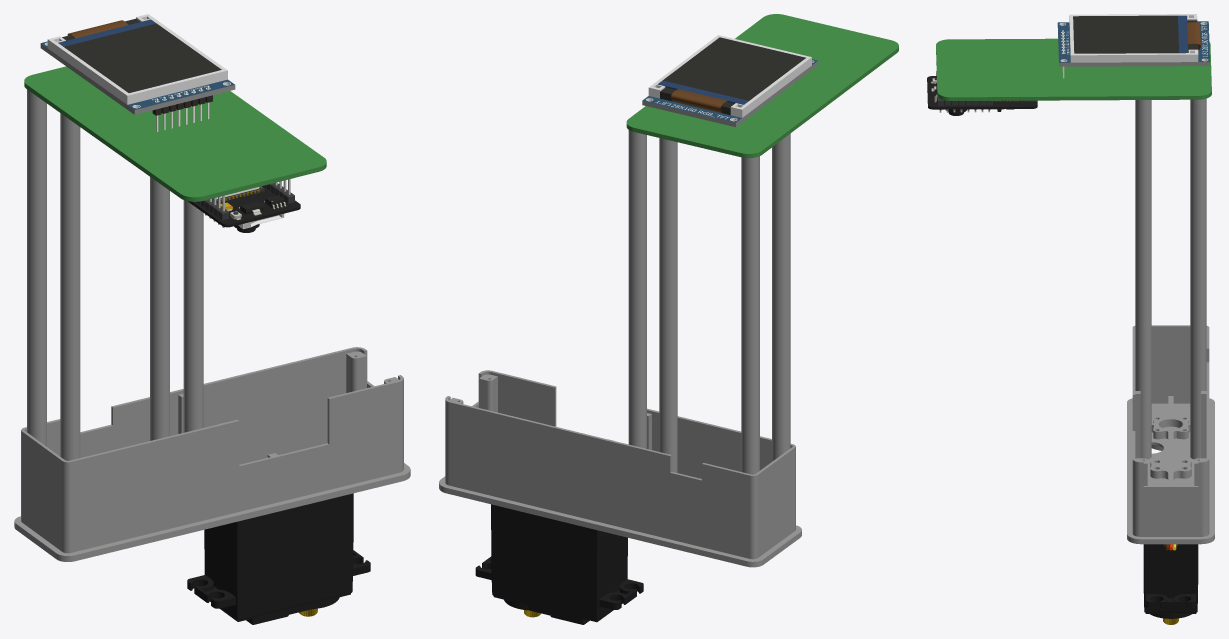
Rendered from Rotating_Assembly (1).obj.
3 views of the same model, side by side, from view 1: azimuth 30°, elevation 25°; view 2: azimuth 150°, elevation 25°; view 3: azimuth 270°, elevation 25° (orthographic). The views are drawn at different scales.
Visible parts, largest first — view 1: Body1, Body1:3, Body1:2, upper_rod3, upper_rod1 (1), Body2:1, upper_rod2, upper_rod4, Body5, Body1:109, Body1:4, Body3:1; view 2: Body1, Body1:2, Body1:3, upper_rod4, upper_rod1 (1), upper_rod3, upper_rod2, Body2:1, Body5, Body1:109, Body6; view 3: Body1, Body1:3, upper_rod4, upper_rod2, Body1:2, Body2:1, Body5, Body1:109, Body1:4.
Part boxes in pixels (x1,y1,x2,y2): Body1: [14, 347, 410, 561]; Body1:3: [24, 66, 326, 201]; Body1:2: [187, 493, 370, 624]; upper_rod3: [60, 113, 80, 460]; upper_rod1 (1): [27, 89, 46, 446]; Body2:1: [64, 23, 221, 92]; upper_rod2: [150, 177, 169, 440]; upper_rod4: [183, 200, 203, 432]; Body5: [47, 14, 227, 104]; Body1:109: [40, 41, 235, 132]; Body1:4: [187, 186, 300, 227]; Body3:1: [58, 19, 156, 46]; Body1: [439, 370, 801, 567]; Body1:2: [475, 504, 643, 624]; Body1:3: [626, 14, 898, 158]; upper_rod4: [659, 138, 677, 472]; upper_rod1 (1): [741, 156, 759, 474]; upper_rod3: [772, 133, 790, 461]; upper_rod2: [628, 130, 646, 448]; Body2:1: [663, 37, 805, 100]; Body5: [648, 35, 811, 117]; Body1:109: [642, 59, 818, 127]; Body6: [671, 89, 727, 112]; Body1: [1127, 325, 1214, 544]; Body1:3: [936, 38, 1211, 100]; upper_rod4: [1135, 100, 1151, 459]; upper_rod2: [1190, 98, 1206, 459]; Body1:2: [1143, 544, 1198, 624]; Body2:1: [1073, 15, 1178, 53]; Body5: [1069, 14, 1198, 62]; Body1:109: [1057, 21, 1209, 78]; Body1:4: [927, 76, 1037, 109].
Bounding box in the file's own units: 122 × 205 × 105.
